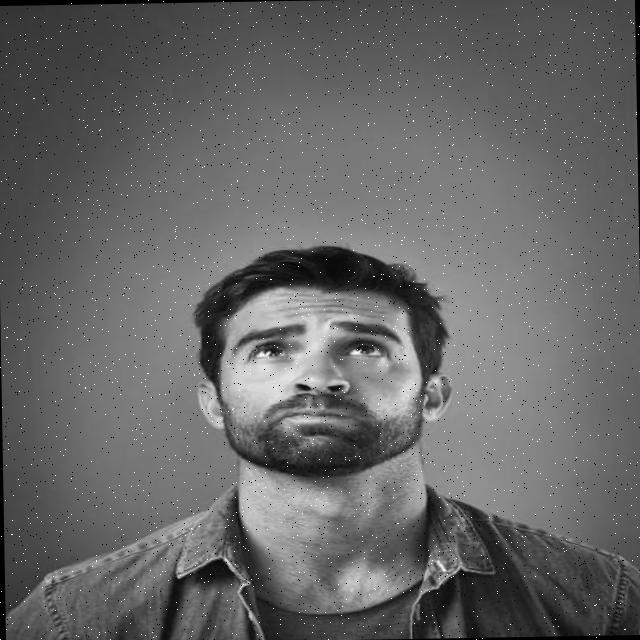Sadness: (217, 284, 426, 480)
